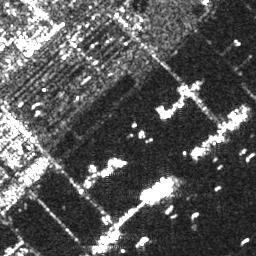ship: (134, 234, 150, 249), (244, 153, 255, 163), (189, 212, 201, 220), (164, 204, 173, 214), (241, 237, 250, 246), (238, 147, 247, 155), (217, 163, 224, 172), (215, 184, 222, 192), (170, 212, 177, 220)
